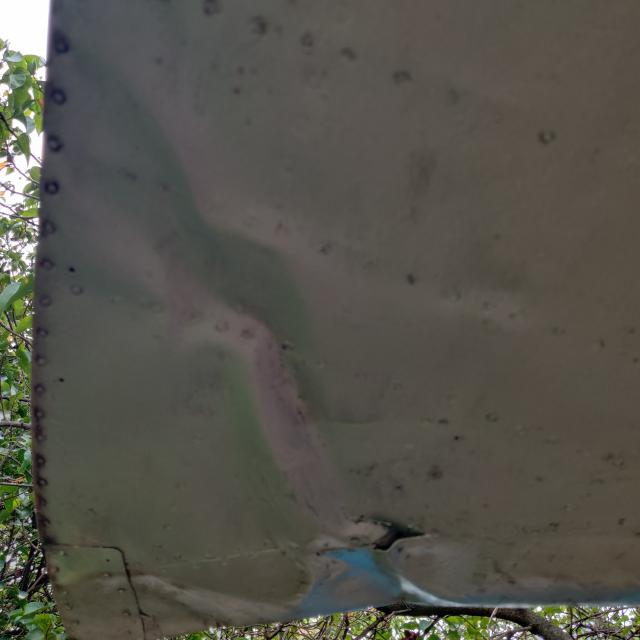crack: (345, 506, 398, 544)
dent: (33, 29, 370, 517), (275, 502, 541, 630), (63, 558, 280, 640)
